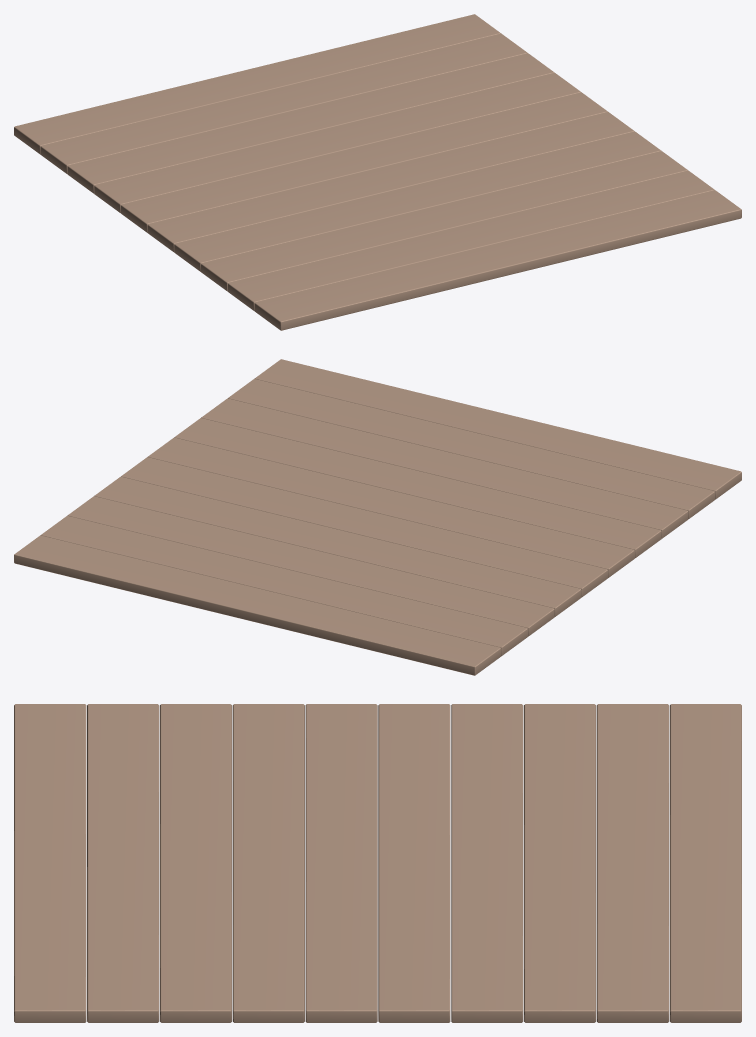
Rendered from Floor_11.glb.
The picture shows the model from 3 angles, top to bottom: view 1: azimuth 30°, elevation 25°; view 2: azimuth 150°, elevation 25°; view 3: azimuth 270°, elevation 25°; orthographic projection. The views are drawn at different scales.
Visible parts, largest first — view 1: Floor_11; view 2: Floor_11; view 3: Floor_11.
Part boxes in pixels (bbox=[...]): Floor_11: bbox=[14, 14, 741, 330]; Floor_11: bbox=[14, 359, 741, 675]; Floor_11: bbox=[14, 704, 741, 1022].
Bounding box in the file's own units: 5 × 0.1 × 5.01.
1 material, 1 textured.
